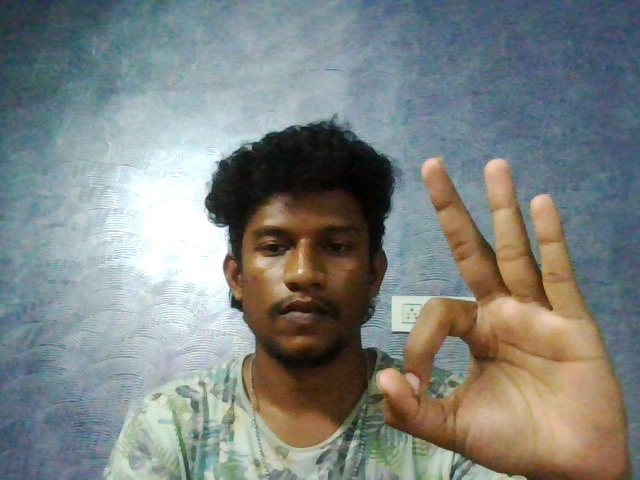good: (343, 162, 637, 475)
